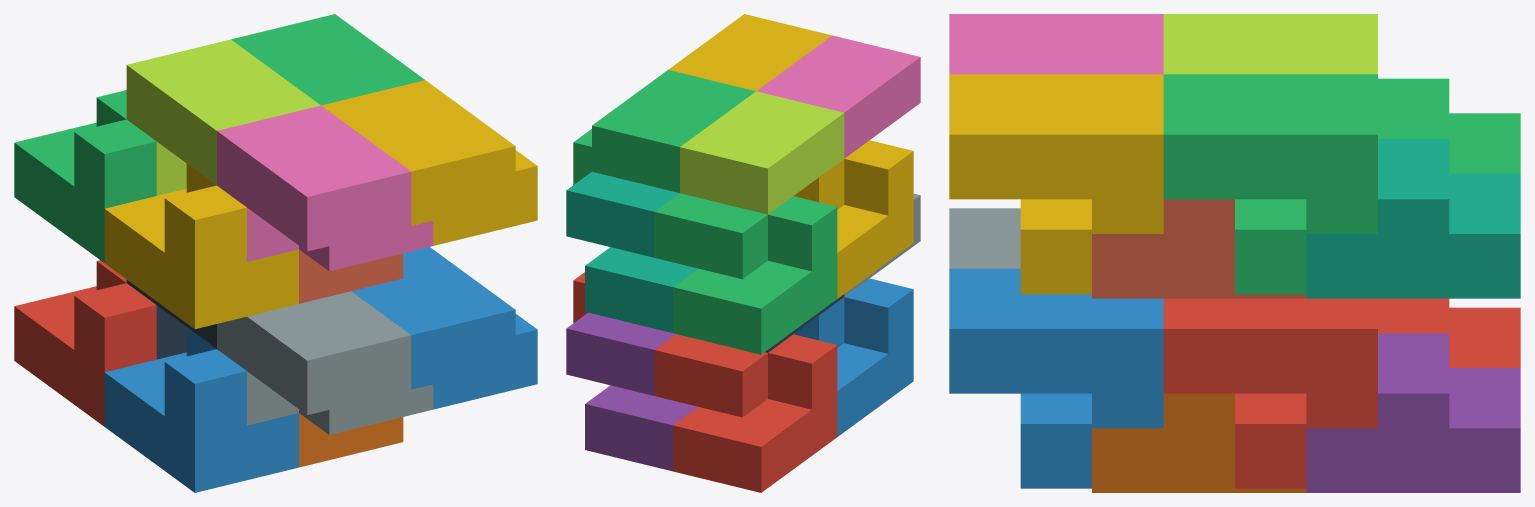
File: tiling.obj
The picture shows the model from 3 angles, left to right: view 1: azimuth 30°, elevation 25°; view 2: azimuth 150°, elevation 25°; view 3: azimuth 270°, elevation 25°; orthographic projection. The views are drawn at different scales.
Parts seen in each view (by area): view 1: copy_2_domain_4, copy_2_domain_2, copy_1_domain_2, copy_1_domain_4, copy_2_domain_8, copy_2_domain_6, copy_2_domain_3, copy_1_domain_3, copy_1_domain_1, copy_2_domain_7, copy_1_domain_6, copy_1_domain_8 (+1 smaller); view 2: copy_1_domain_3, copy_1_domain_1, copy_2_domain_3, copy_1_domain_7, copy_1_domain_5, copy_2_domain_7, copy_1_domain_2, copy_1_domain_4, copy_2_domain_4, copy_2_domain_8, copy_2_domain_2, copy_2_domain_5; view 3: copy_2_domain_8, copy_2_domain_7, copy_2_domain_6, copy_2_domain_5, copy_1_domain_7, copy_1_domain_5, copy_2_domain_4, copy_2_domain_3, copy_1_domain_8, copy_1_domain_6, copy_1_domain_3, copy_1_domain_1 (+1 smaller).
Part boxes in pixels (left/top/right/bottom): copy_2_domain_4: left=217, top=105, right=433, bottom=271; copy_2_domain_2: left=217, top=291, right=433, bottom=434; copy_1_domain_2: left=104, top=327, right=298, bottom=492; copy_1_domain_4: left=104, top=164, right=298, bottom=329; copy_2_domain_8: left=321, top=80, right=537, bottom=245; copy_2_domain_6: left=351, top=247, right=537, bottom=409; copy_2_domain_3: left=126, top=39, right=320, bottom=195; copy_1_domain_3: left=14, top=90, right=156, bottom=262; copy_1_domain_1: left=14, top=260, right=156, bottom=426; copy_2_domain_7: left=231, top=14, right=424, bottom=105; copy_1_domain_6: left=299, top=413, right=403, bottom=467; copy_1_domain_8: left=299, top=249, right=403, bottom=303; copy_1_domain_3: left=654, top=193, right=837, bottom=354; copy_1_domain_1: left=654, top=334, right=837, bottom=492; copy_2_domain_3: left=680, top=91, right=844, bottom=214; copy_1_domain_7: left=566, top=172, right=697, bottom=332; copy_1_domain_5: left=566, top=312, right=698, bottom=471; copy_2_domain_7: left=573, top=70, right=755, bottom=192; copy_1_domain_2: left=794, top=278, right=913, bottom=436; copy_1_domain_4: left=794, top=140, right=913, bottom=298; copy_2_domain_4: left=756, top=35, right=920, bottom=158; copy_2_domain_8: left=668, top=14, right=831, bottom=90; copy_2_domain_2: left=844, top=193, right=920, bottom=296; copy_2_domain_5: left=573, top=272, right=587, bottom=322; copy_2_domain_8: left=949, top=74, right=1163, bottom=294; copy_2_domain_7: left=1163, top=74, right=1377, bottom=294; copy_2_domain_6: left=949, top=268, right=1163, bottom=488; copy_2_domain_5: left=1163, top=298, right=1377, bottom=488; copy_1_domain_7: left=1306, top=139, right=1520, bottom=298; copy_1_domain_5: left=1306, top=333, right=1520, bottom=492; copy_2_domain_4: left=949, top=14, right=1163, bottom=74; copy_2_domain_3: left=1163, top=14, right=1377, bottom=74; copy_1_domain_8: left=1092, top=199, right=1306, bottom=298; copy_1_domain_6: left=1092, top=393, right=1306, bottom=492; copy_1_domain_3: left=1378, top=78, right=1520, bottom=173; copy_1_domain_1: left=1378, top=298, right=1520, bottom=367.
Bounding box in the file's own units: 6 × 6 × 8.
